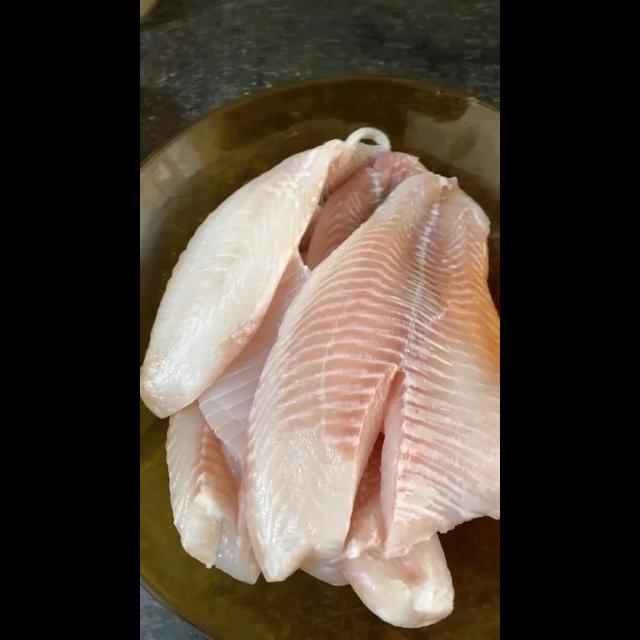fish: (235, 165, 500, 595)
